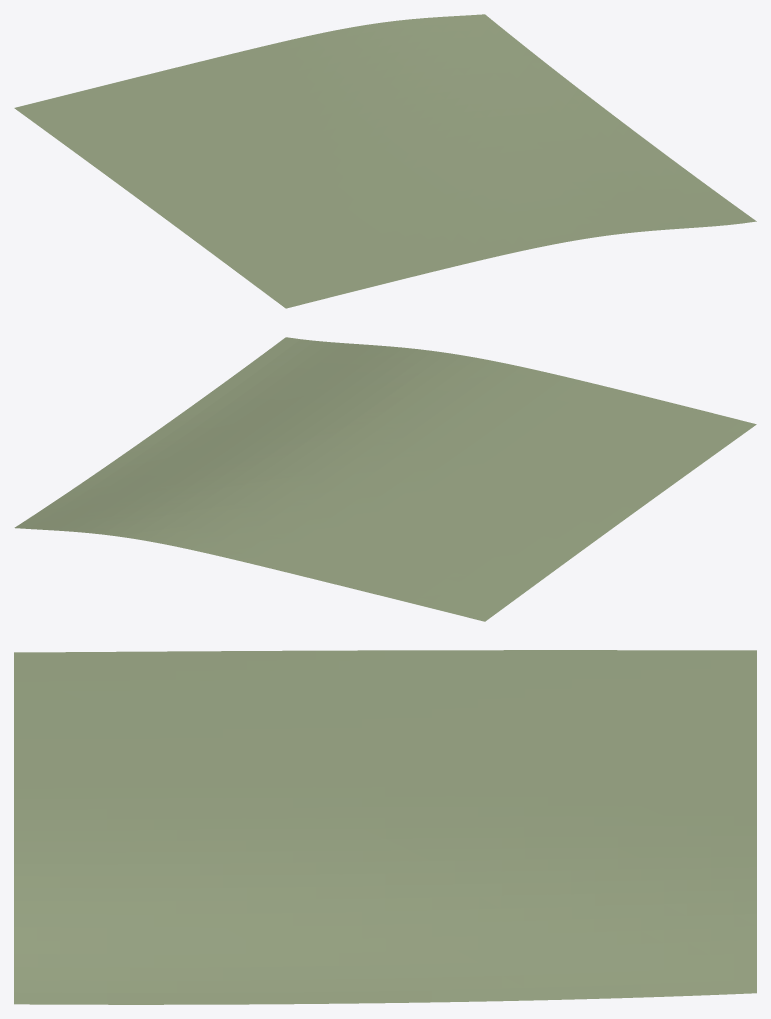
Rendered from desert-10-14.glb.
3 renders of one model, top to bottom at view 1: azimuth 30°, elevation 25°; view 2: azimuth 150°, elevation 25°; view 3: azimuth 270°, elevation 25°, orthographic. The views are drawn at different scales.
Parts seen in each view (by area): view 1: desert-10-14; view 2: desert-10-14; view 3: desert-10-14.
Part boxes in pixels (bbox=[...]): desert-10-14: bbox=[14, 14, 756, 308]; desert-10-14: bbox=[14, 337, 756, 621]; desert-10-14: bbox=[14, 650, 756, 1004].
Bounding box in the file's own units: 512 × 31.9 × 512.
